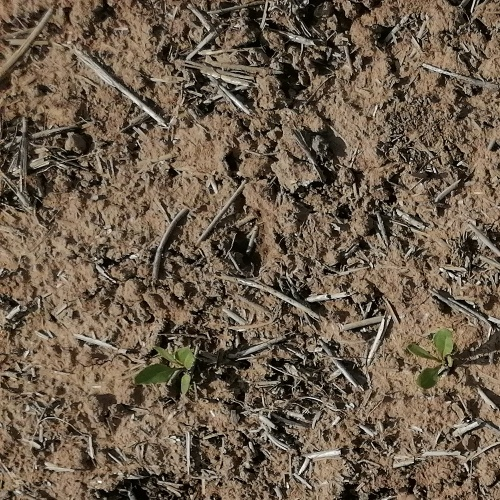beet: (130, 345, 198, 394), (407, 328, 453, 390)
